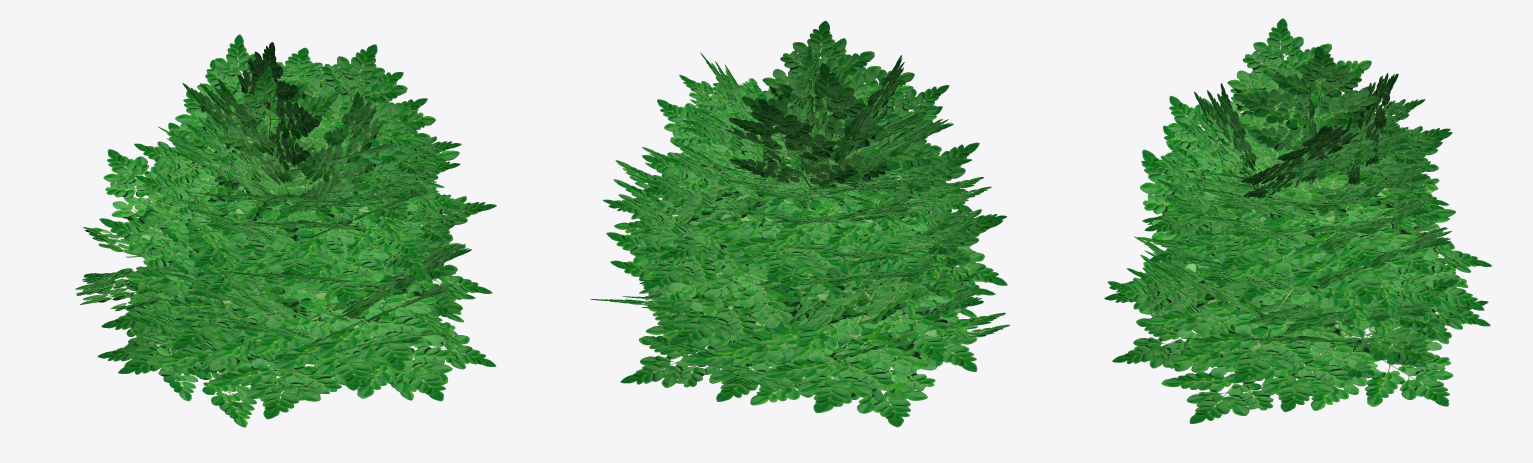
File: buisson_3_1.FBX
3 renders of one model, left to right at view 1: azimuth 30°, elevation 25°; view 2: azimuth 150°, elevation 25°; view 3: azimuth 270°, elevation 25°, orthographic. The views are drawn at different scales.
Visible parts, largest first — view 1: Plane1924; view 2: Plane1924; view 3: Plane1924.
Boxes of the visible parts, bbox=[...] form: Plane1924: bbox=[75, 34, 496, 427]; Plane1924: bbox=[590, 20, 1010, 427]; Plane1924: bbox=[1104, 18, 1491, 423].
Size of the model in its own units: 180 by 132 by 169.
1 material, 1 textured.
